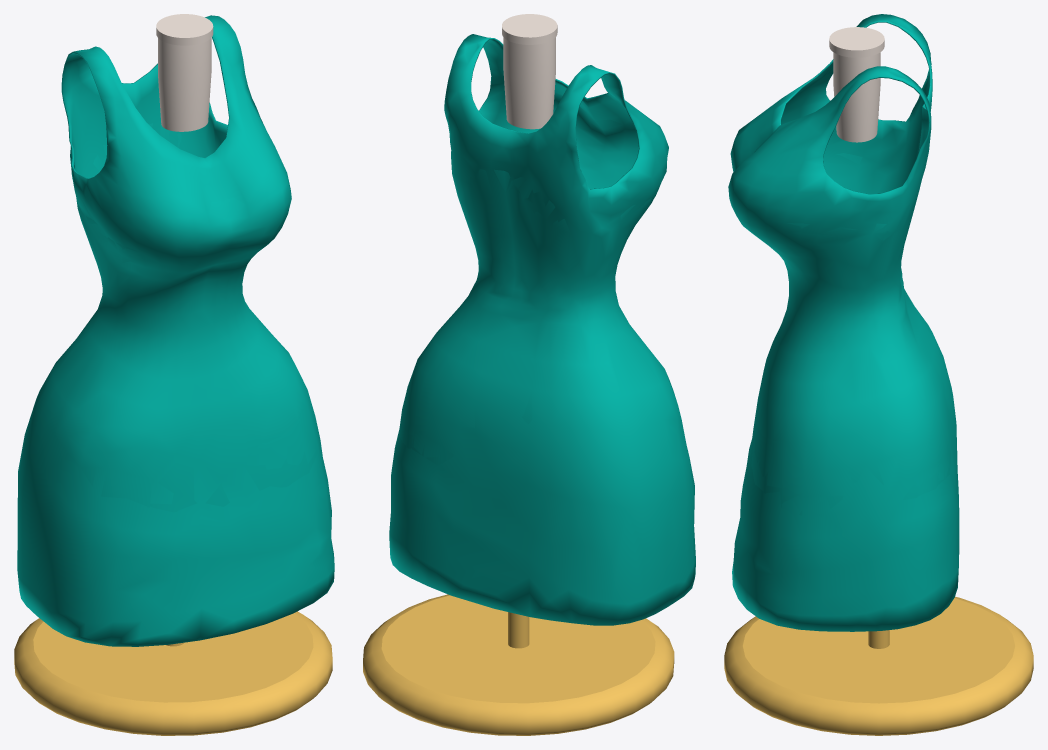
The model's file is rain.dress.teal-tulip.glb.
3 renders of one model, left to right at view 1: azimuth 30°, elevation 25°; view 2: azimuth 150°, elevation 25°; view 3: azimuth 270°, elevation 25°, orthographic. The views are drawn at different scales.
Parts seen in each view (by area): view 1: Tailored.Dress.teal-tulip.Fabric, stand_base, stand_torso, stand_neck_cap; view 2: Tailored.Dress.teal-tulip.Fabric, stand_base, stand_torso, stand_neck_cap, stand_stem; view 3: Tailored.Dress.teal-tulip.Fabric, stand_base, stand_torso, stand_neck_cap.
Boxes of the visible parts, box(x1,y1,x2,y2) form: Tailored.Dress.teal-tulip.Fabric: box(17, 15, 334, 646); stand_base: box(14, 611, 332, 735); stand_torso: box(158, 38, 211, 131); stand_neck_cap: box(156, 14, 213, 45); Tailored.Dress.teal-tulip.Fabric: box(389, 34, 695, 625); stand_base: box(363, 594, 674, 735); stand_torso: box(503, 37, 555, 129); stand_neck_cap: box(502, 14, 557, 44); stand_stem: box(508, 612, 529, 648); Tailored.Dress.teal-tulip.Fabric: box(728, 14, 959, 631); stand_base: box(724, 596, 1033, 735); stand_torso: box(833, 52, 880, 142); stand_neck_cap: box(829, 27, 884, 57).
Bounding box in the file's own units: 0.3417 × 0.75 × 0.3298.
